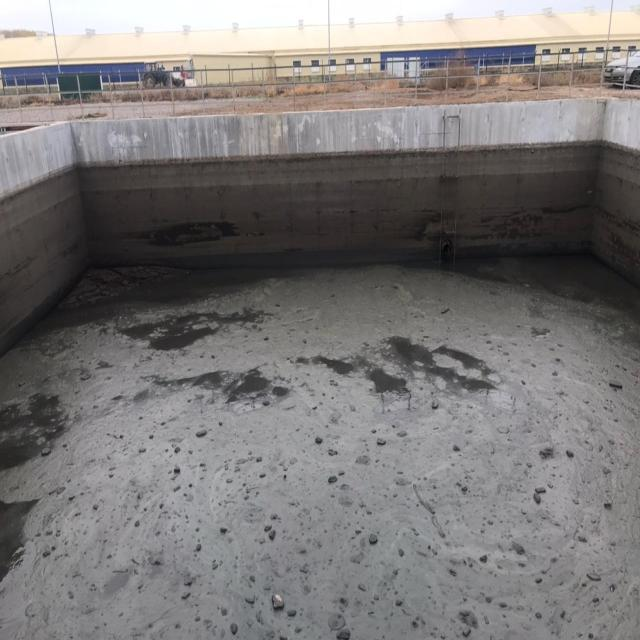fence: (0, 49, 640, 125)
liquid: (0, 255, 640, 640)
